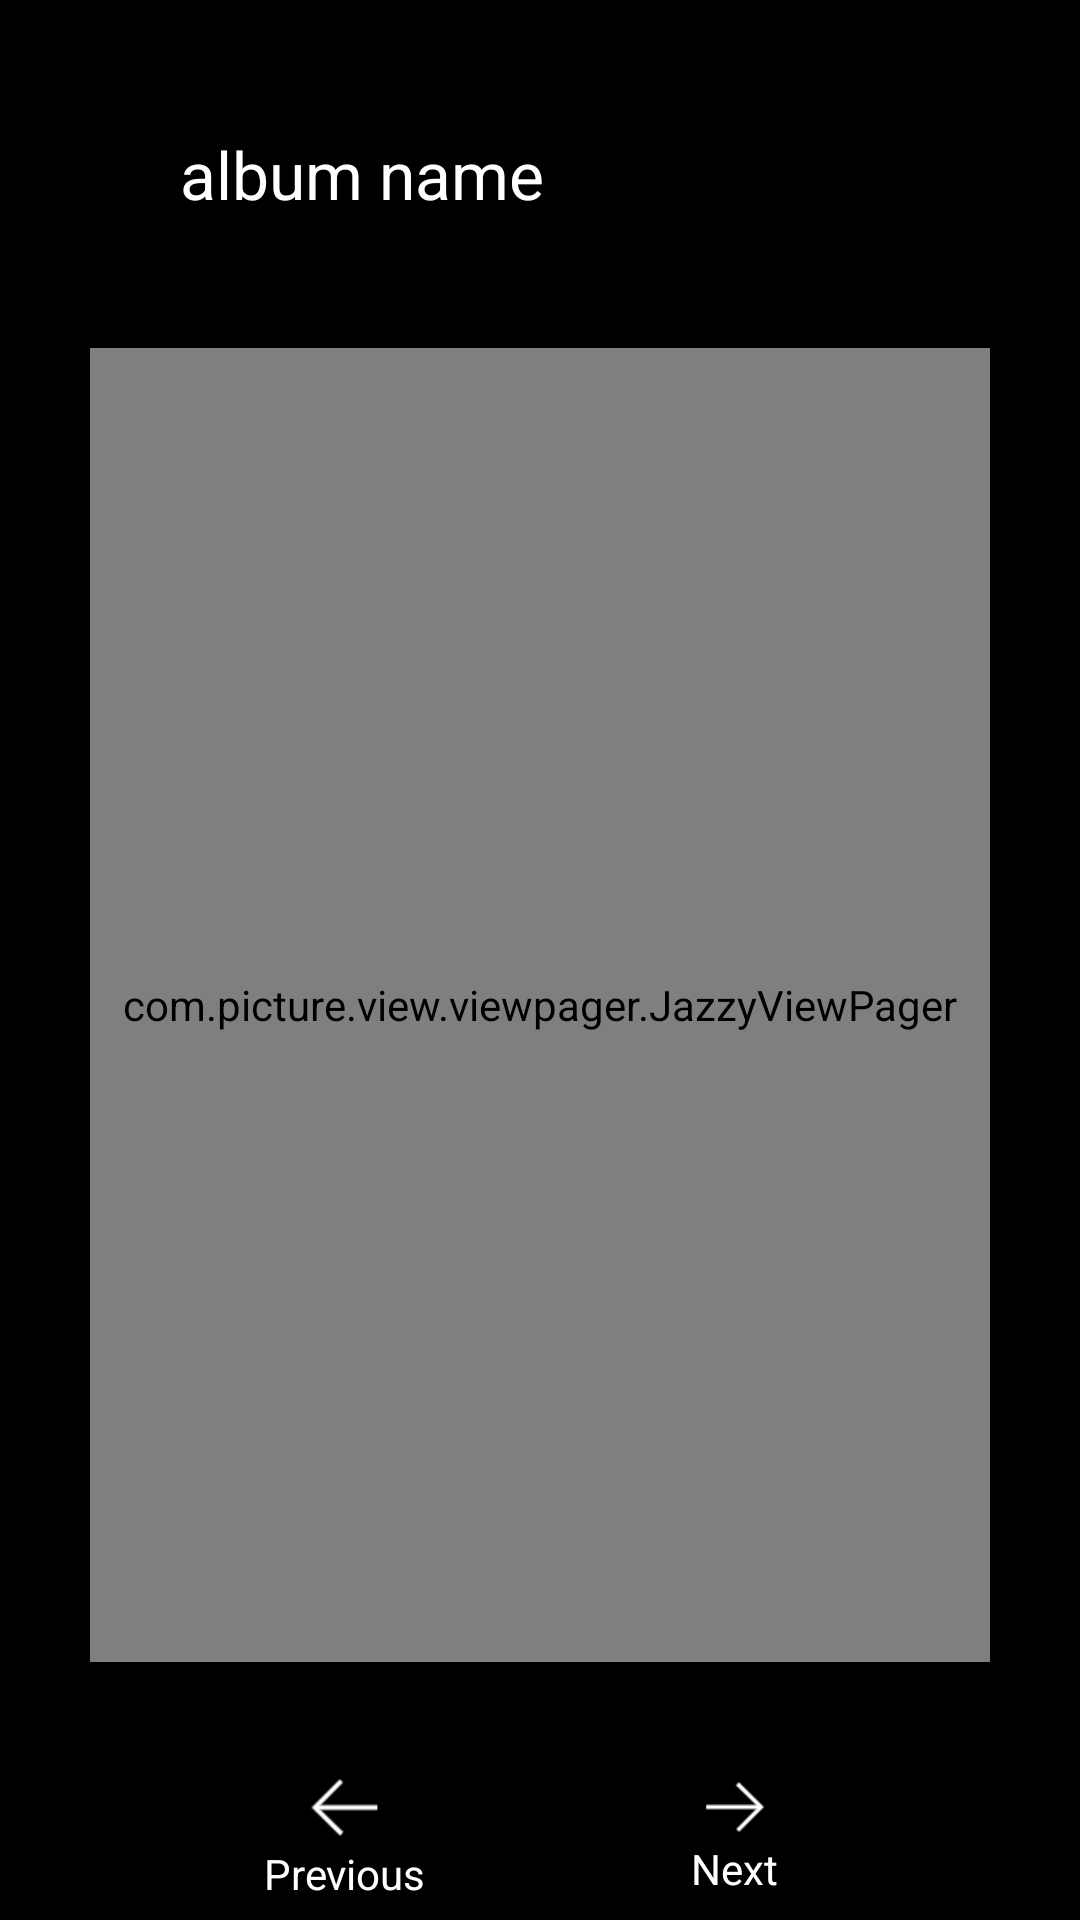

Screen size 1080x1920. Icon name, then its center in pixels as [x,y]:
arrow left: [344,1807]
arrow right: [735,1807]
